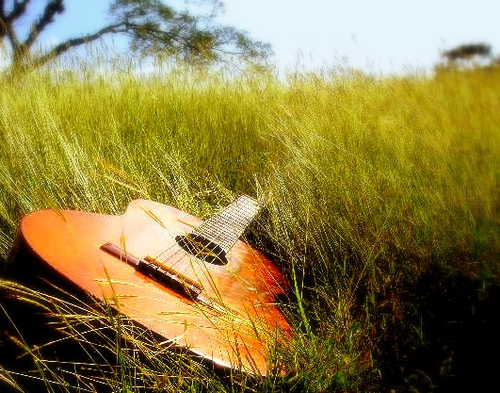guitar: (6, 191, 303, 385)
